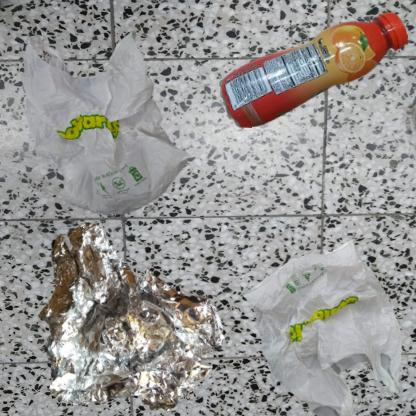aluminio: (10, 213, 256, 416)
bolsa: (10, 10, 209, 243), (213, 213, 416, 416)
botella: (213, 10, 416, 138)
